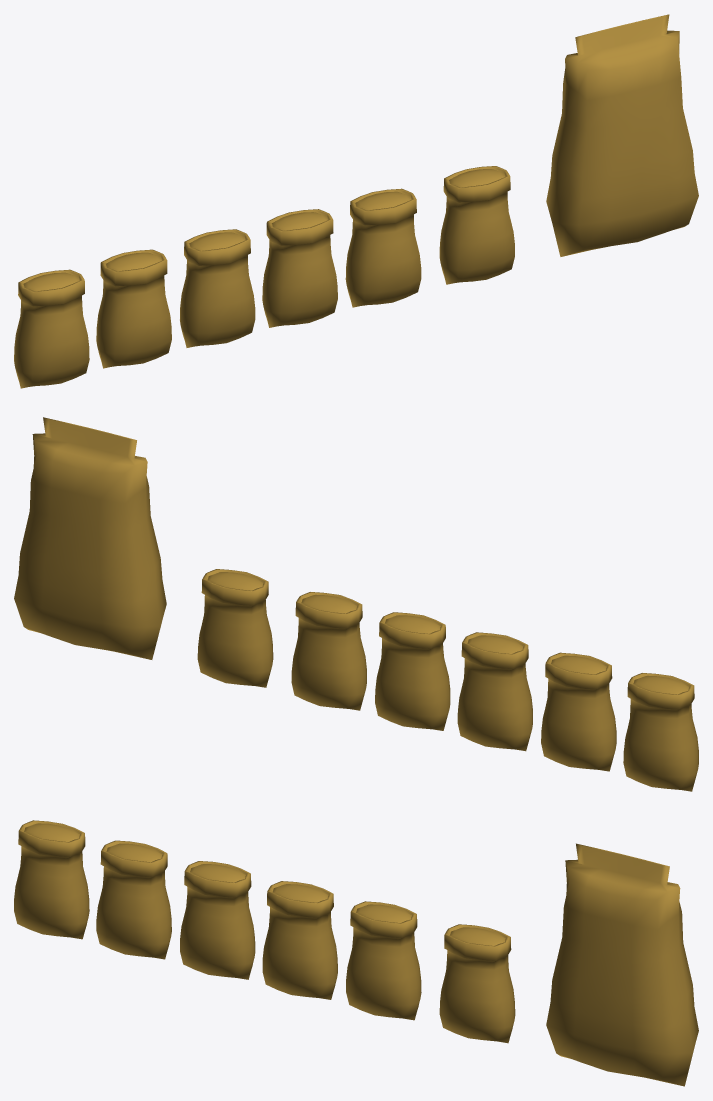
The model's file is TerreSacGraine.glb.
The picture shows the model from 3 angles, top to bottom: view 1: azimuth 30°, elevation 25°; view 2: azimuth 150°, elevation 25°; view 3: azimuth 330°, elevation 25°; orthographic projection.
Parts seen in each view (by area): view 1: S_Terreau_low, S_SacGraineV3_low, S_SacGraineV5_low, S_SacGraineV4_low, S_SacGraineV6_low, S_SacGraineV1_low, S_SacGraineV2_low; view 2: S_Terreau_low, S_SacGraineV2_low, S_SacGraineV5_low, S_SacGraineV6_low, S_SacGraineV4_low, S_SacGraineV1_low, S_SacGraineV3_low; view 3: S_Terreau_low, S_SacGraineV6_low, S_SacGraineV5_low, S_SacGraineV2_low, S_SacGraineV1_low, S_SacGraineV3_low, S_SacGraineV4_low.
Part boxes in pixels (x1=…): S_Terreau_low: x1=546, y1=14, x2=698, y2=256; S_SacGraineV3_low: x1=262, y1=209, x2=337, y2=327; S_SacGraineV5_low: x1=96, y1=249, x2=171, y2=368; S_SacGraineV4_low: x1=180, y1=229, x2=255, y2=347; S_SacGraineV6_low: x1=14, y1=269, x2=89, y2=388; S_SacGraineV1_low: x1=439, y1=166, x2=514, y2=284; S_SacGraineV2_low: x1=345, y1=188, x2=421, y2=307; S_Terreau_low: x1=14, y1=417, x2=166, y2=659; S_SacGraineV2_low: x1=291, y1=592, x2=366, y2=710; S_SacGraineV5_low: x1=541, y1=652, x2=616, y2=771; S_SacGraineV6_low: x1=623, y1=673, x2=698, y2=791; S_SacGraineV4_low: x1=457, y1=632, x2=532, y2=751; S_SacGraineV1_low: x1=197, y1=569, x2=273, y2=687; S_SacGraineV3_low: x1=375, y1=612, x2=450, y2=730; S_Terreau_low: x1=546, y1=843, x2=698, y2=1086; S_SacGraineV6_low: x1=14, y1=820, x2=89, y2=939; S_SacGraineV5_low: x1=96, y1=840, x2=171, y2=959; S_SacGraineV2_low: x1=346, y1=901, x2=421, y2=1020; S_SacGraineV1_low: x1=439, y1=924, x2=515, y2=1043; S_SacGraineV3_low: x1=262, y1=881, x2=337, y2=999; S_SacGraineV4_low: x1=180, y1=861, x2=255, y2=979.
Bounding box in the file's own units: 2.3 × 0.7097 × 0.2269.
